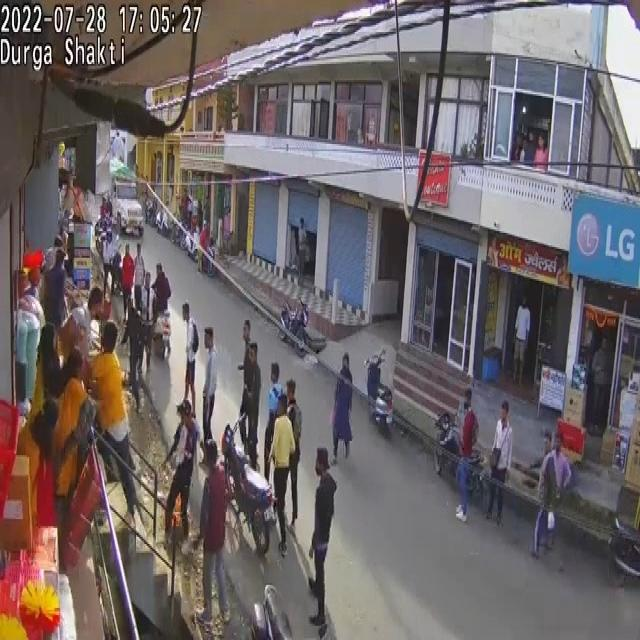fight: (0, 264, 164, 578), (52, 349, 92, 555), (36, 322, 66, 411)
non-fight: (88, 326, 139, 524), (195, 437, 232, 631), (306, 448, 336, 636), (164, 401, 199, 546), (535, 436, 571, 563), (268, 396, 296, 554), (485, 402, 514, 527), (454, 394, 479, 521), (284, 384, 302, 523), (241, 342, 261, 467), (264, 362, 285, 476), (332, 353, 354, 459), (200, 325, 218, 448), (590, 336, 612, 433), (125, 300, 145, 406), (182, 304, 199, 424), (513, 294, 531, 385), (121, 245, 135, 318), (199, 222, 210, 274)
